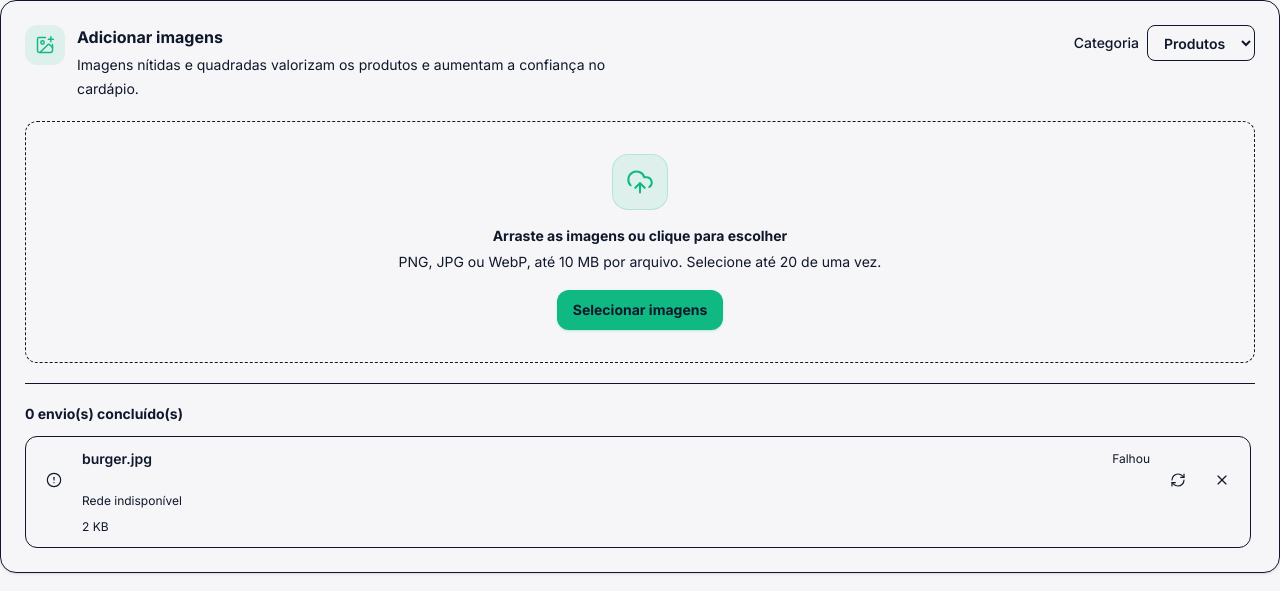
media library interactions › offers retry after a failed upload
Earlier steps of the test are not shown.
Expected: the text "Falhou" is shown, [1112,451,1150,467]
Click the button named "tentar novamente".
click(1178, 480)  # box [1162,464,1194,496]
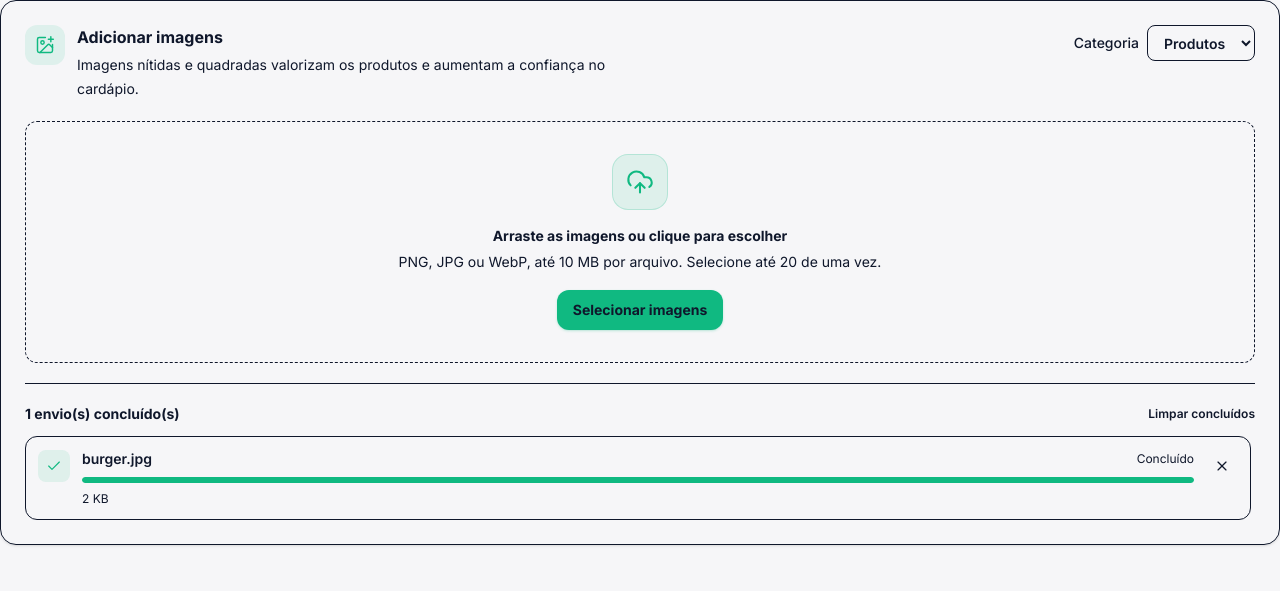
Now the text "Concluído" is shown, box [1137,451,1194,467]
